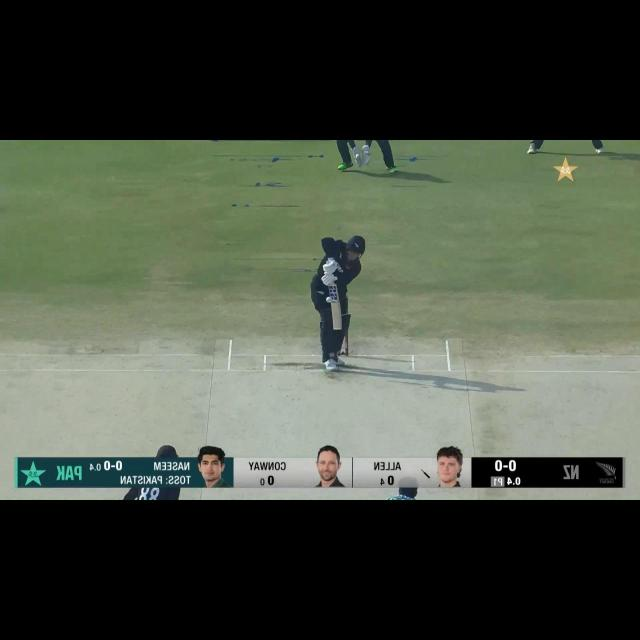bat: (324, 283, 347, 332)
toe: (333, 322, 344, 330)
